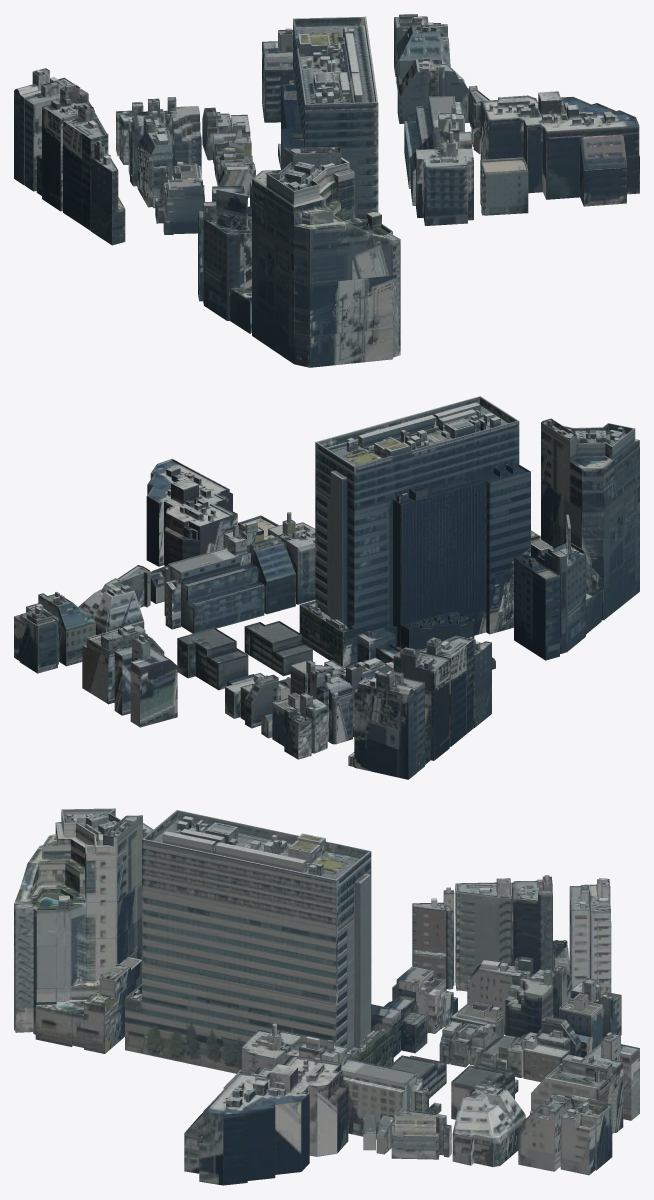
File: data469.glb
3 views of the same model, one above another, from view 1: azimuth 30°, elevation 25°; view 2: azimuth 150°, elevation 25°; view 3: azimuth 270°, elevation 25° (orthographic). The views are drawn at different scales.
Size of the model in its own units: 168 by 76.83 by 194.
2 materials, 1 textured.
